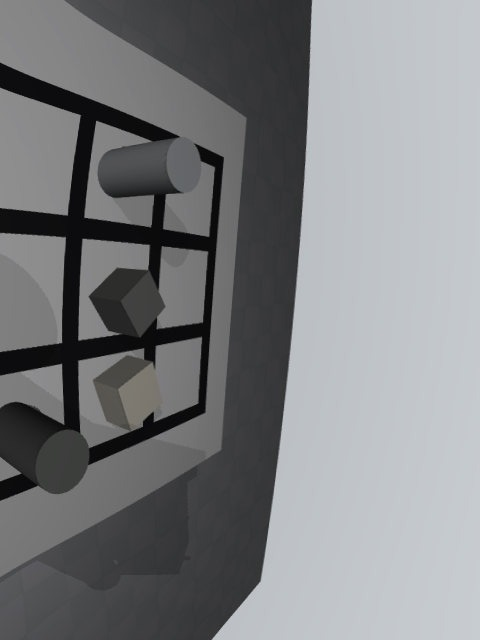can: (97, 137, 201, 198)
cube: (88, 268, 166, 338)
cylinder: (0, 402, 90, 494)
foam: (93, 356, 163, 431)
